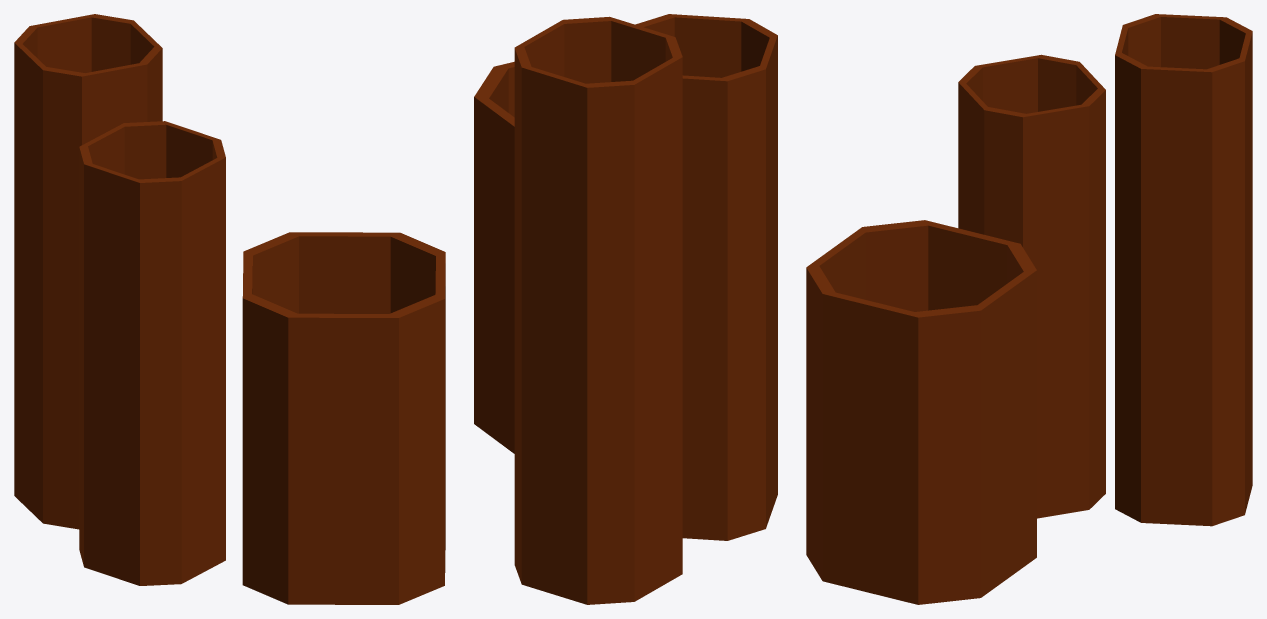
File: Asset_WoodenContainers.fbx
3 views of the same model, side by side, from view 1: azimuth 30°, elevation 25°; view 2: azimuth 150°, elevation 25°; view 3: azimuth 270°, elevation 25° (orthographic). The views are drawn at different scales.
Visible parts, largest first — view 1: pCube181; view 2: pCube181; view 3: pCube181.
Boxes of the visible parts, x1,y1,x2,y2 form: pCube181: [14, 14, 445, 604]; pCube181: [474, 14, 777, 604]; pCube181: [806, 14, 1252, 604].
Size of the model in its own units: 0.5086 by 0.7342 by 0.6544.
